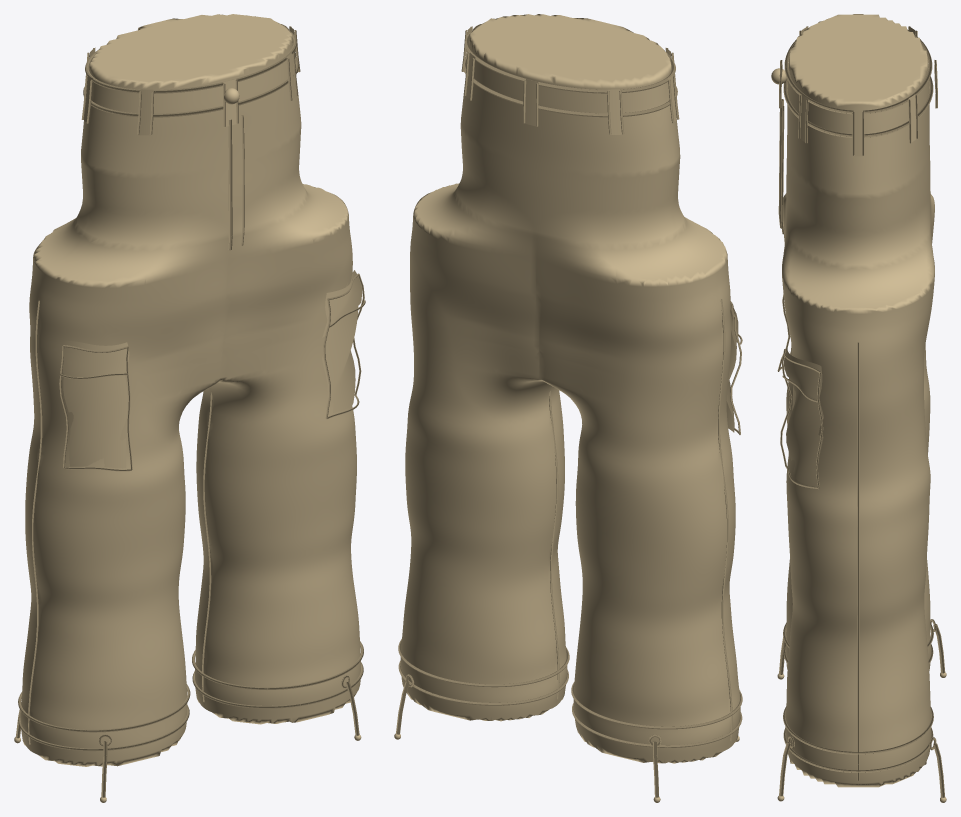
Rendered from display.glb.
3 views of the same model, side by side, from view 1: azimuth 30°, elevation 25°; view 2: azimuth 150°, elevation 25°; view 3: azimuth 270°, elevation 25° (orthographic).
Visible parts, largest first — view 1: AtelierX cargo trouser geometry; view 2: AtelierX cargo trouser geometry; view 3: AtelierX cargo trouser geometry.
Part boxes in pixels (left/top/right/bottom): AtelierX cargo trouser geometry: left=14, top=14, right=365, bottom=802; AtelierX cargo trouser geometry: left=394, top=14, right=742, bottom=802; AtelierX cargo trouser geometry: left=771, top=14, right=946, bottom=802.
Size of the model in its own units: 0.5459 by 1.11 by 0.2572.
